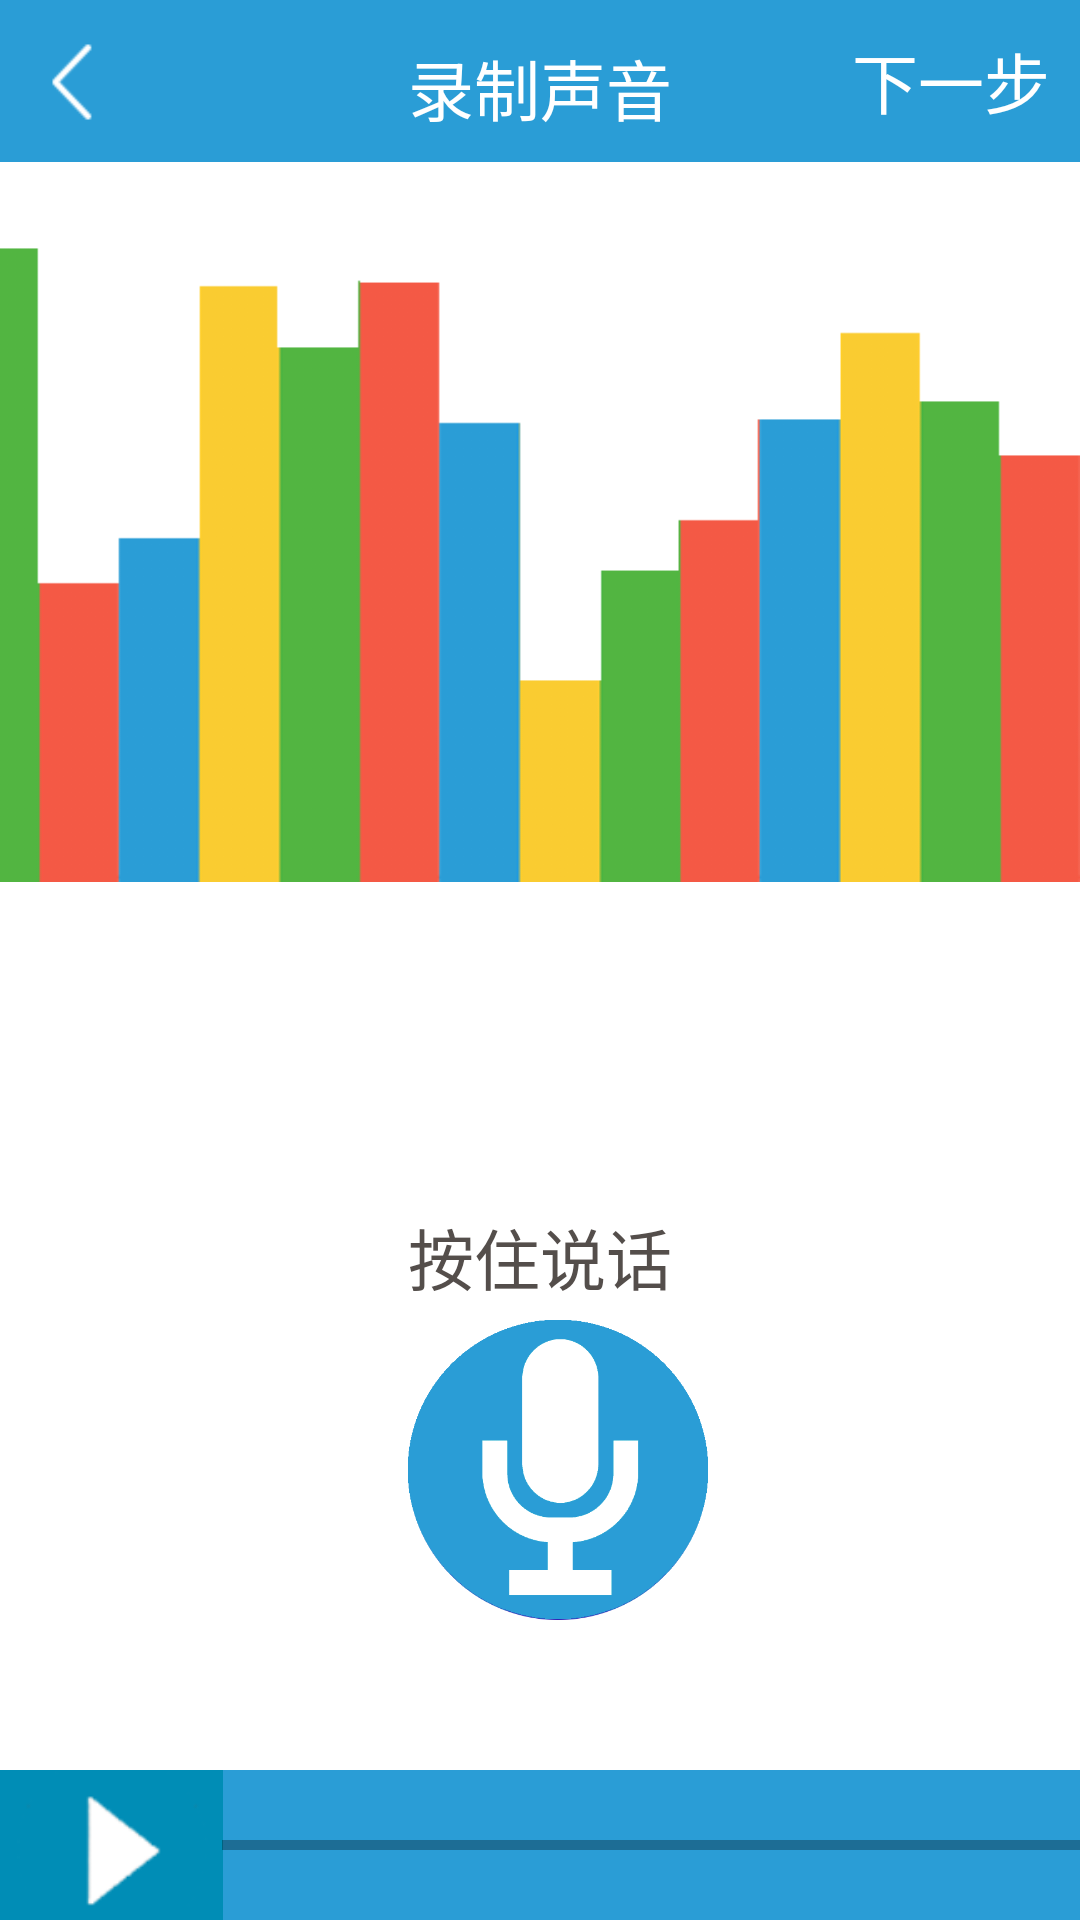

Icons on this 1080×1920 Android screen, each with the point to tap as (x,y):
audio record: (558,1470)
